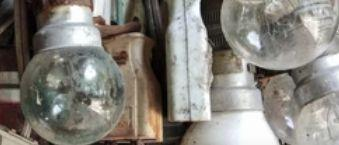light bulb: (17, 2, 127, 145), (177, 47, 282, 145), (218, 0, 339, 71)
